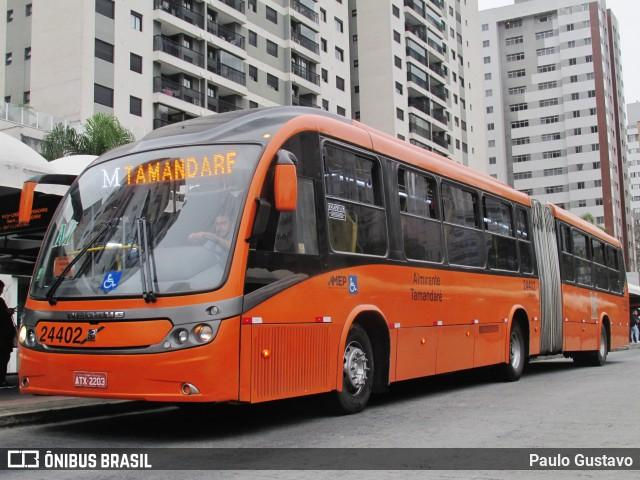TAMANDARE: (122, 146, 241, 190)
